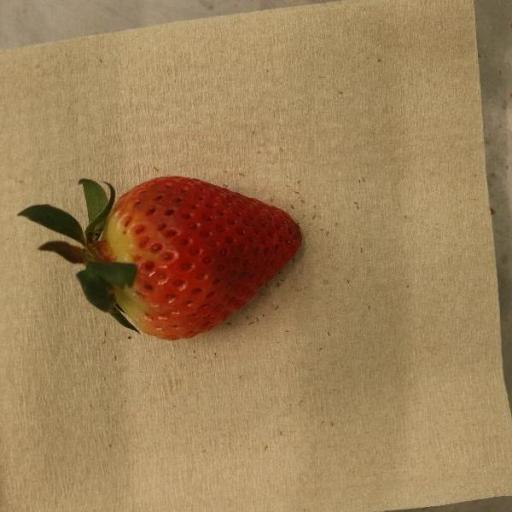Strawberry: (16, 176, 302, 342)
